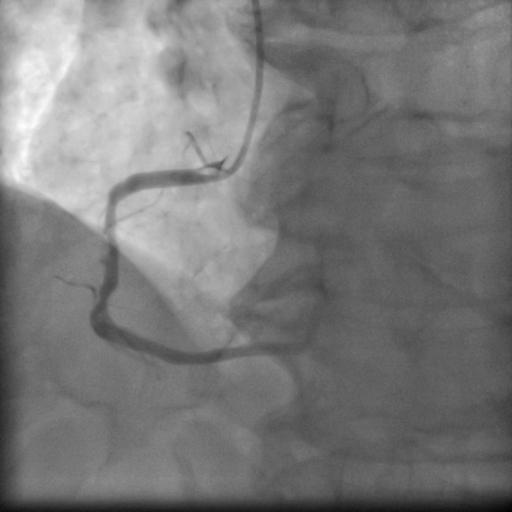Stenosis: (93, 193, 123, 313)
